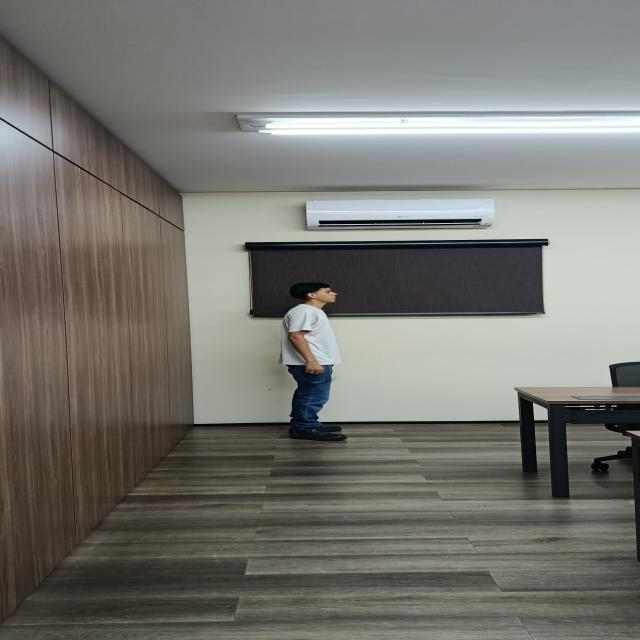sem_oculos: (319, 289, 336, 294)
